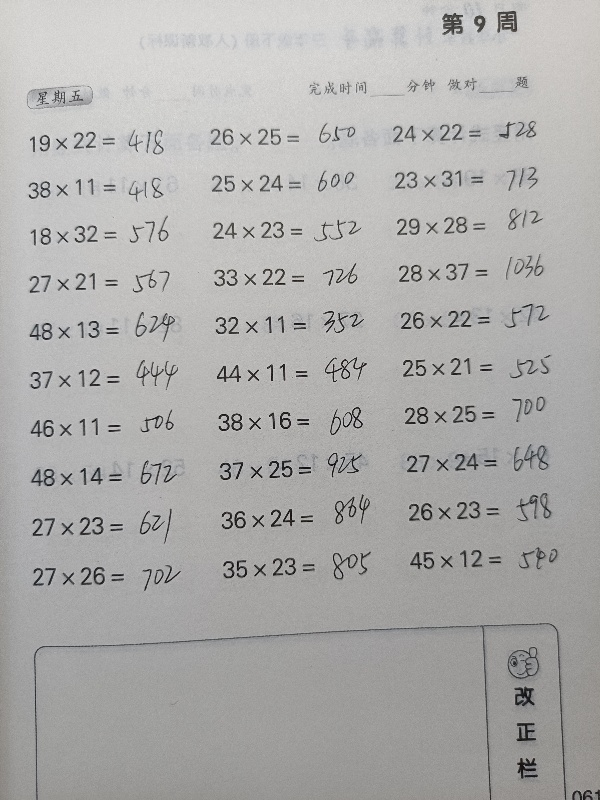equation: (21, 122, 201, 163), (24, 558, 204, 593), (214, 549, 394, 584), (23, 509, 203, 543), (212, 501, 392, 535), (399, 493, 579, 527), (211, 452, 391, 486), (397, 445, 577, 479), (395, 397, 575, 431), (21, 361, 201, 395), (391, 302, 571, 336), (21, 217, 201, 251), (401, 542, 581, 575), (22, 460, 202, 493), (21, 411, 201, 444), (209, 404, 389, 437), (393, 350, 573, 383), (20, 313, 200, 346), (207, 309, 387, 342), (20, 266, 200, 299), (205, 261, 385, 294), (389, 255, 569, 288), (205, 214, 385, 247), (387, 209, 567, 242), (386, 162, 566, 195), (202, 121, 382, 154), (384, 116, 564, 149), (207, 357, 387, 389), (20, 172, 200, 204), (203, 168, 383, 200)
